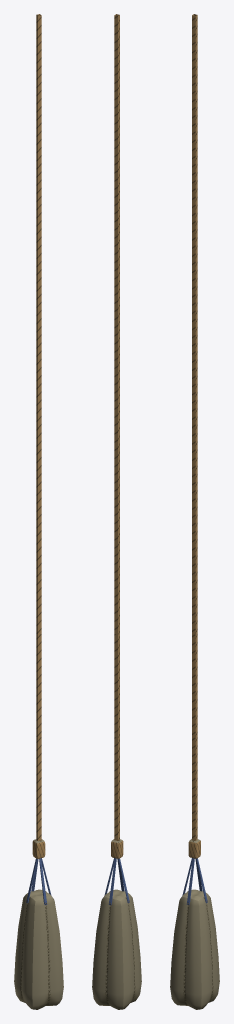
File: sandbag.glb
The picture shows the model from 3 angles, left to right: view 1: azimuth 30°, elevation 25°; view 2: azimuth 150°, elevation 25°; view 3: azimuth 330°, elevation 25°; orthographic projection.
Parts seen in each view (by area): view 1: Theater_Sandbag_LOD0; view 2: Theater_Sandbag_LOD0; view 3: Theater_Sandbag_LOD0.
Boxes of the visible parts, x1,y1,x2,y2 form: Theater_Sandbag_LOD0: (14, 14, 63, 1009); Theater_Sandbag_LOD0: (92, 14, 141, 1009); Theater_Sandbag_LOD0: (170, 14, 219, 1009).
Size of the model in its own units: 0.2888 by 7.28 by 0.2955.
Materials: 1 (1 with a texture image).
